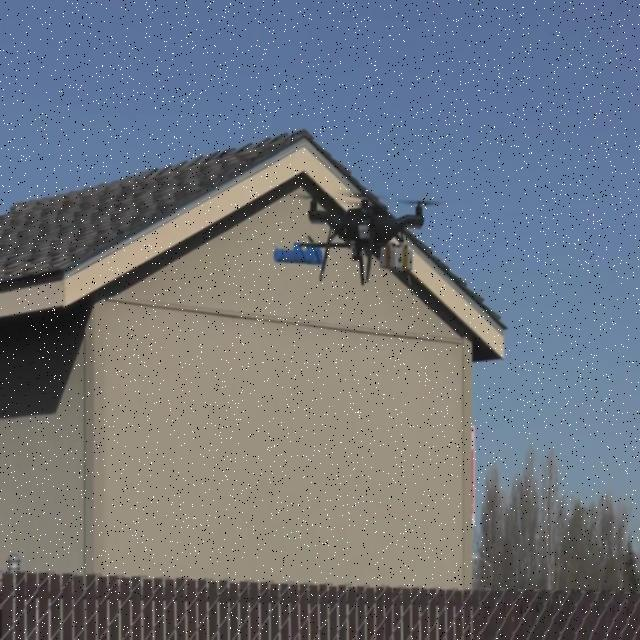UAV: (308, 199, 438, 285)
